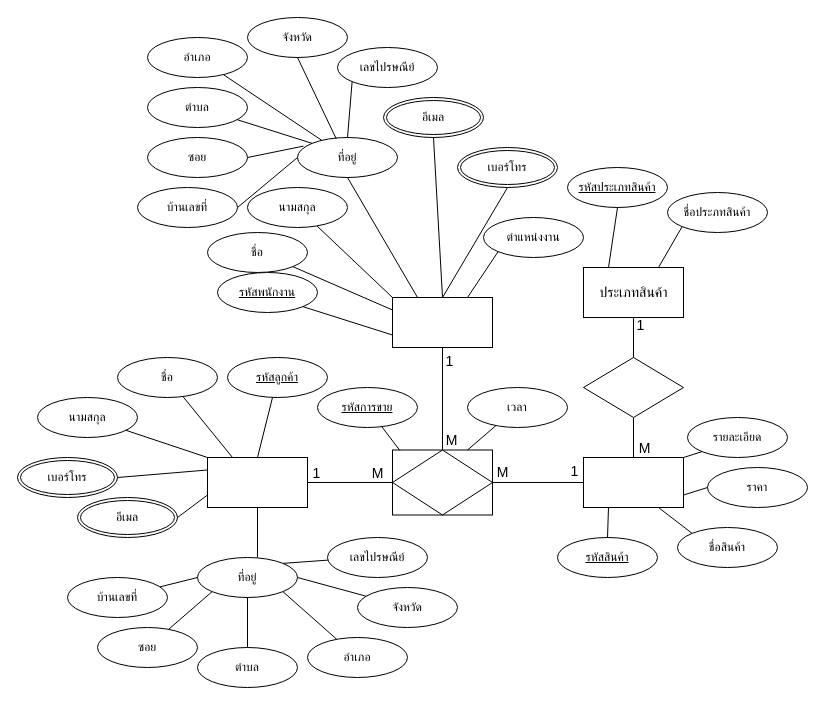
Some shapes in this 825 by 705 pixel diagram are drawn without their labels. The shapes that lost their labels are listed below. From the top down, each one's centre as x and y in pixels, then its label:
At (442,322): "พนักงาน".
At (633,387): "มี".
At (257,482): "ลูกค้า".
At (442,482): "ขาย".
At (633,482): "สินค้า".
